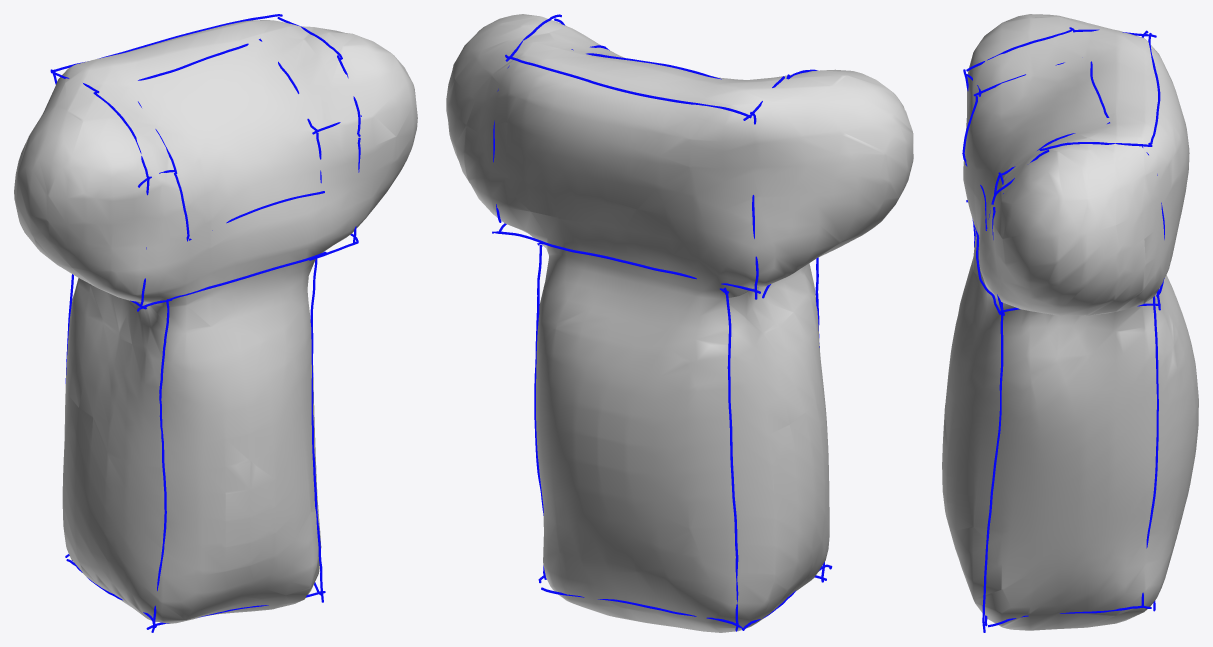
The model's file is scaffold_sketch_P1_trash.json_sketch_proxy.glb.
3 renders of one model, left to right at view 1: azimuth 30°, elevation 25°; view 2: azimuth 150°, elevation 25°; view 3: azimuth 270°, elevation 25°, orthographic. The views are drawn at different scales.
Visible parts, largest first — view 1: scaffold_sketch_P1_trash.json_surface, scaffold_sketch_P1_trash.json; view 2: scaffold_sketch_P1_trash.json_surface, scaffold_sketch_P1_trash.json; view 3: scaffold_sketch_P1_trash.json_surface, scaffold_sketch_P1_trash.json.
Boxes of the visible parts, x1,y1,x2,y2 form: scaffold_sketch_P1_trash.json_surface: (14,20,417,623); scaffold_sketch_P1_trash.json: (50,14,361,632); scaffold_sketch_P1_trash.json_surface: (446,14,913,632); scaffold_sketch_P1_trash.json: (492,14,832,631); scaffold_sketch_P1_trash.json_surface: (942,14,1198,630); scaffold_sketch_P1_trash.json: (962,27,1164,632).
Bounding box in the file's own units: 0.8078 × 1.03 × 0.4509.
